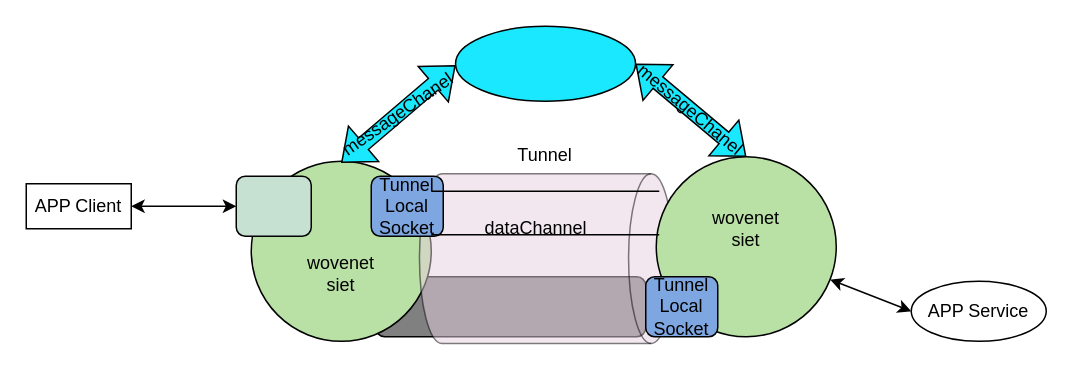
The diagram is 1073 pixels wide and 371 high, and some of its shapes have lost their labels. Each missing label, with the box of its shape:
MQTT Broker Server: (454, 25, 636, 101)
Remote APP Local Socket: (235, 175, 311, 236)
